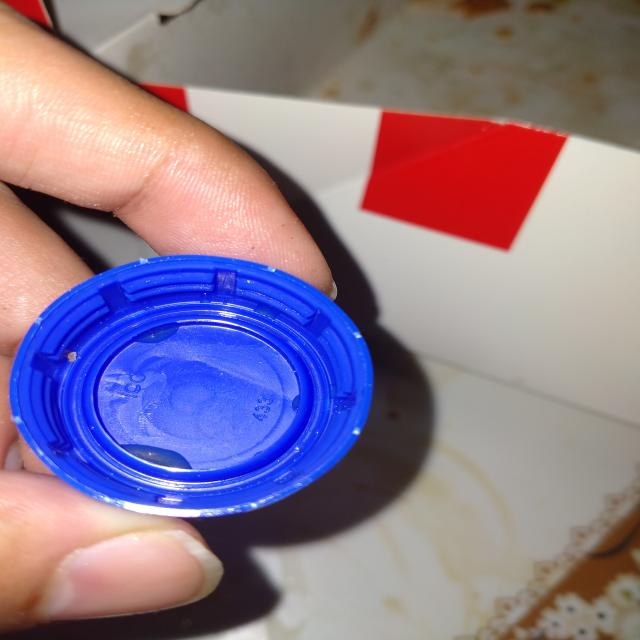general: (8, 253, 375, 519)
